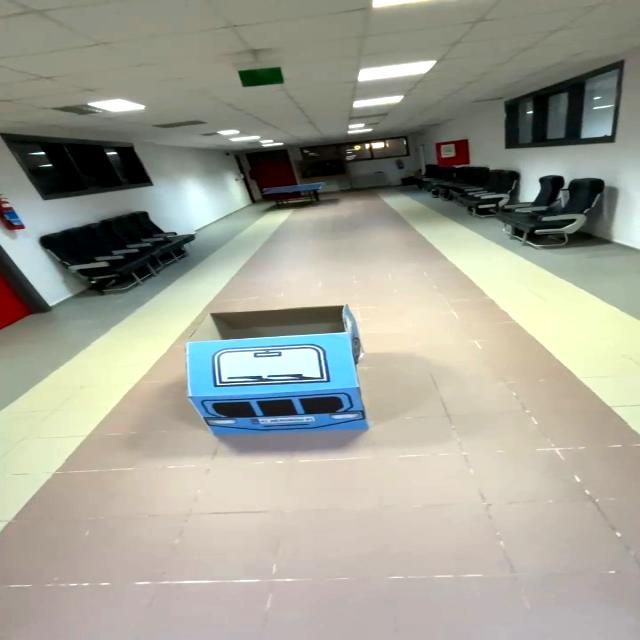blue_car: (167, 298, 380, 456)
